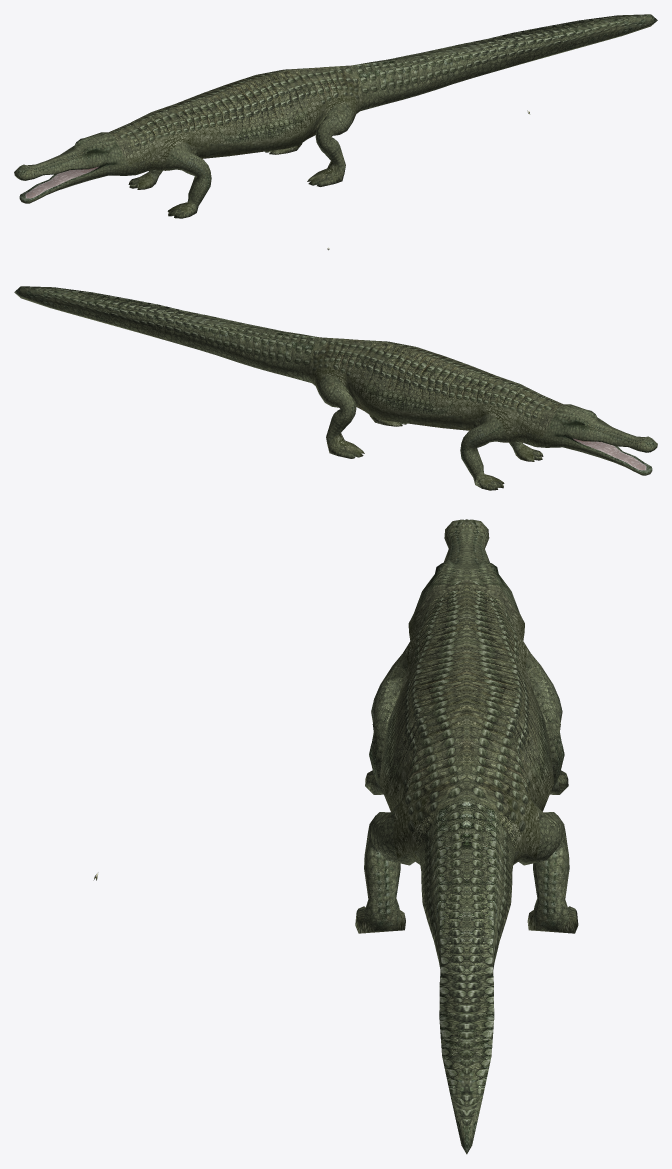
Rendered from sarcosuchus.obj.
The picture shows the model from 3 angles, top to bottom: view 1: azimuth 30°, elevation 25°; view 2: azimuth 150°, elevation 25°; view 3: azimuth 270°, elevation 25°; orthographic projection. The views are drawn at different scales.
Visible parts, largest first — view 1: group_4.006_ID11; view 2: group_4.006_ID11; view 3: group_4.006_ID11.
Part boxes in pixels (x1=…): group_4.006_ID11: x1=14, y1=14, x2=657, y2=218; group_4.006_ID11: x1=14, y1=286, x2=657, y2=490; group_4.006_ID11: x1=355, y1=519, x2=578, y2=1154.
Size of the model in its own units: 6.39 by 0.9215 by 2.09.
2 materials, 1 textured.
